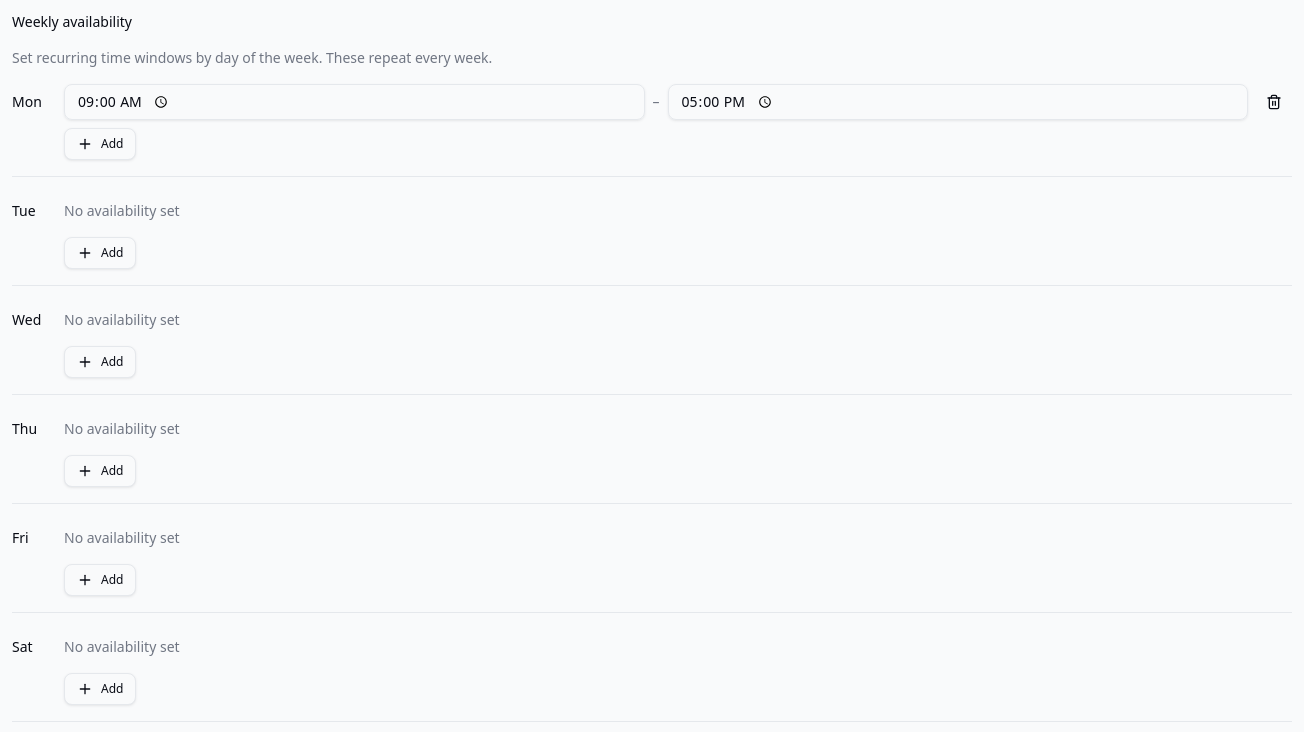
Test: AvailabilityEditor › hydration from saved available times › does not reset form again when availableTimes data changes after initial hydration
Expected: the time field named "monday window 1 start time" is shown, [64, 84, 644, 120]
Click the button named "remove monday window 1" at x=1274, y=102, box [1256, 84, 1292, 120]
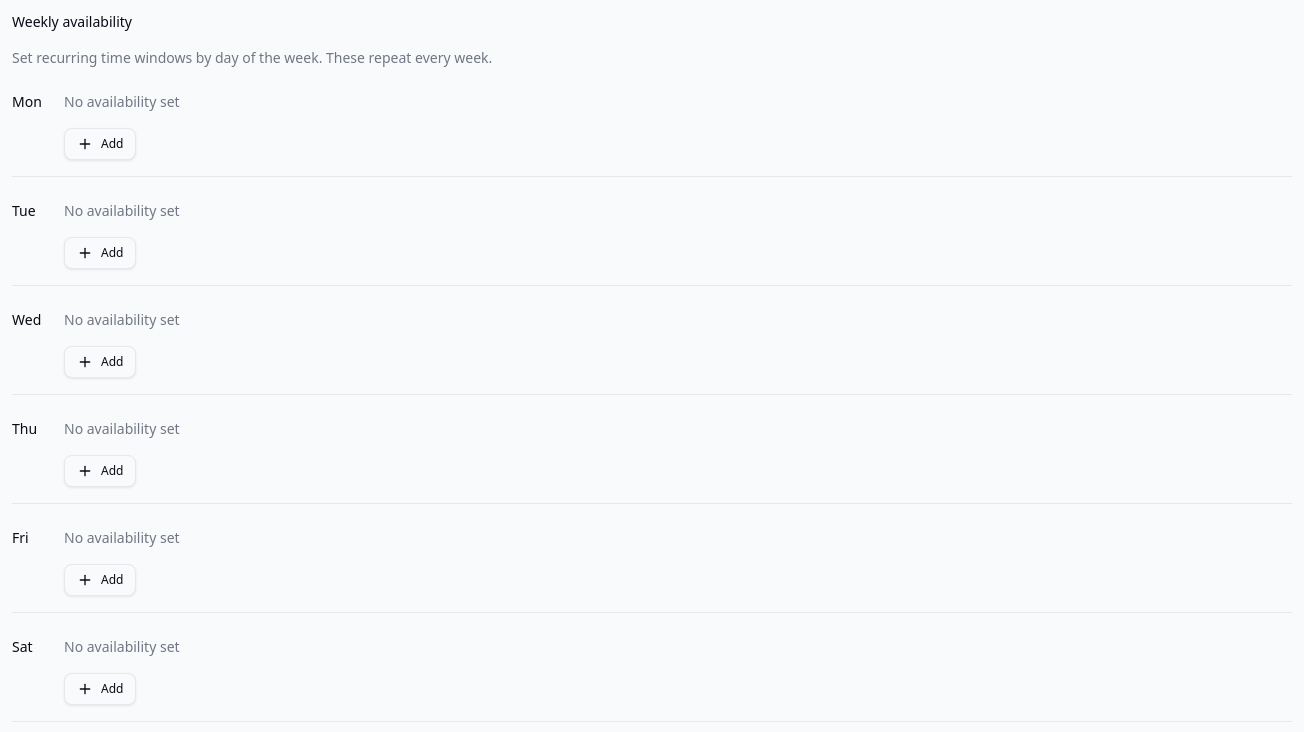
Expected: the time field labelled "monday window 1 start time" is gone
